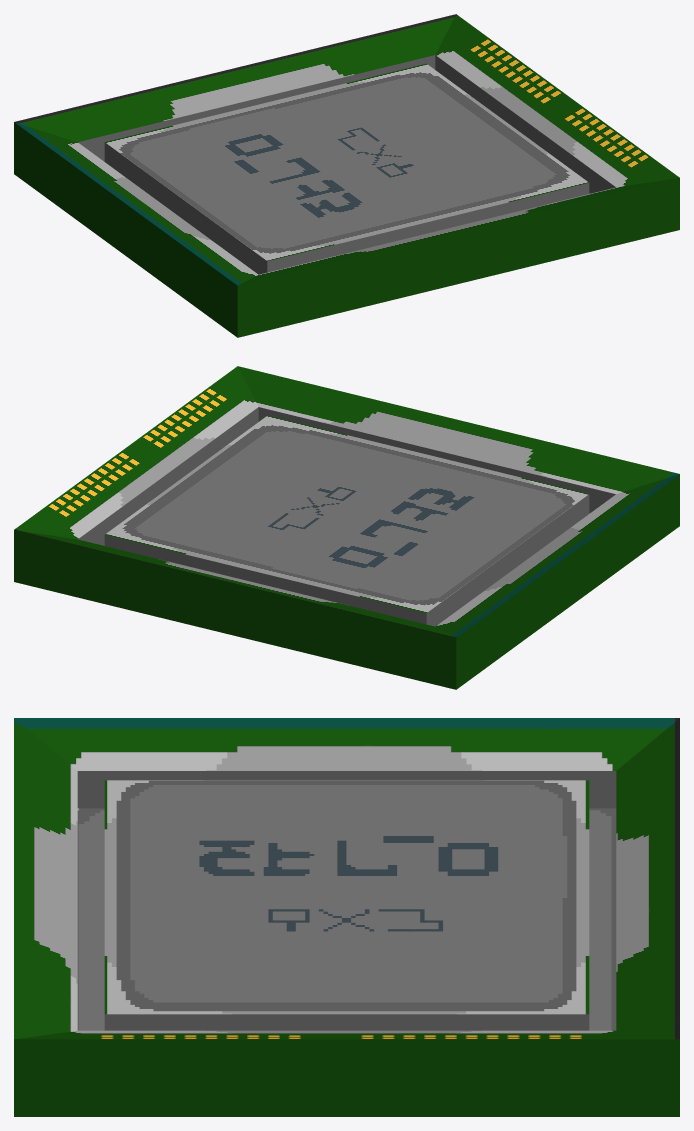
Rendered from Processador_P.fbx.
3 views of the same model, one above another, from view 1: azimuth 30°, elevation 25°; view 2: azimuth 150°, elevation 25°; view 3: azimuth 270°, elevation 25° (orthographic). The views are drawn at different scales.
Parts seen in each view (by area): view 1: Processador.P; view 2: Processador.P; view 3: Processador.P.
Boxes of the visible parts, x1,y1,x2,y2 form: Processador.P: (14,14,679,337); Processador.P: (14,366,679,689); Processador.P: (14,718,679,1116).
Size of the model in its own units: 232 by 26.15 by 203.
